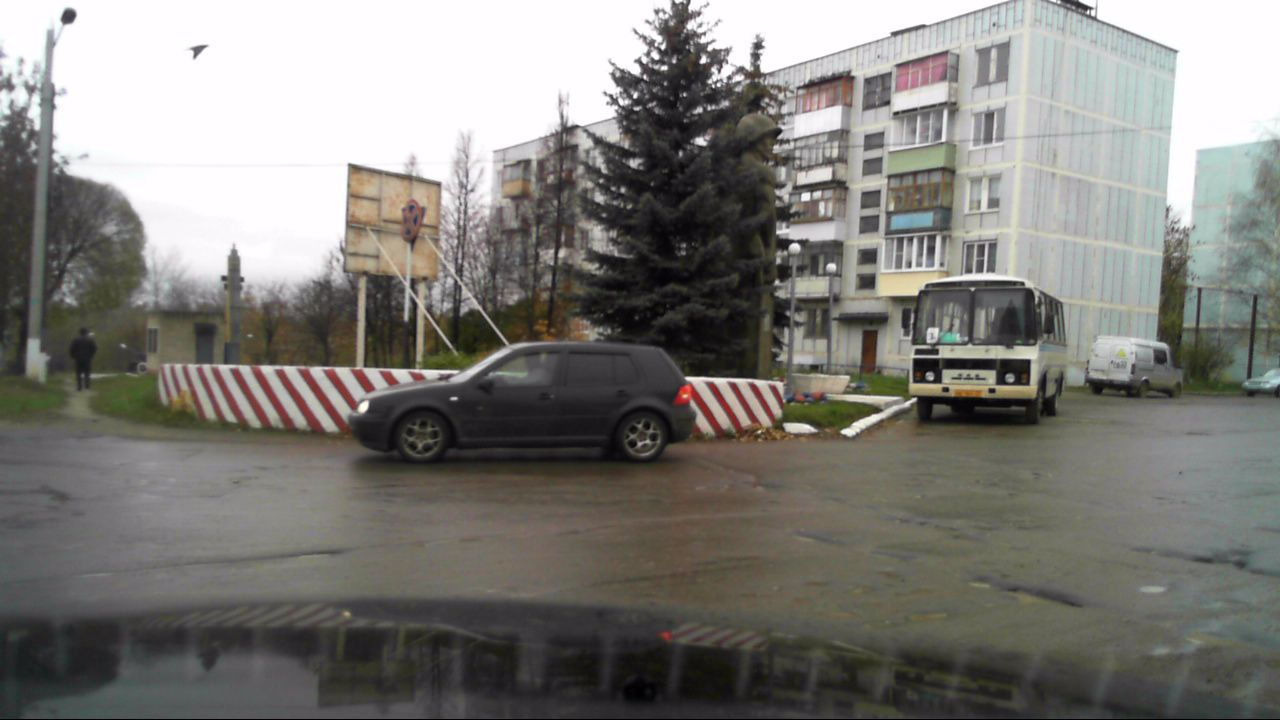No Parking: (401, 199, 422, 242)
